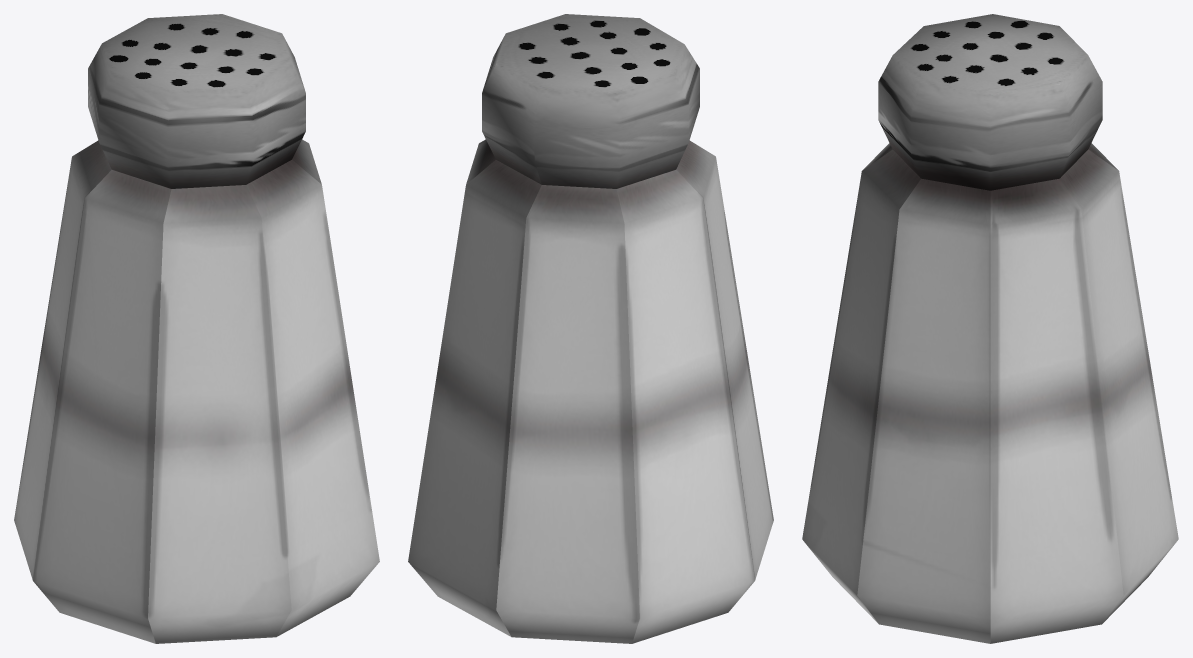
File: salt.fbx
3 renders of one model, left to right at view 1: azimuth 30°, elevation 25°; view 2: azimuth 150°, elevation 25°; view 3: azimuth 270°, elevation 25°, orthographic.
Visible parts, largest first — view 1: polySurface1918; view 2: polySurface1918; view 3: polySurface1918.
Boxes of the visible parts, x1,y1,x2,y2 form: polySurface1918: [14, 14, 379, 643]; polySurface1918: [408, 14, 773, 643]; polySurface1918: [802, 14, 1178, 643].
Bounding box in the file's own units: 8.89 × 13.6 × 8.89.
